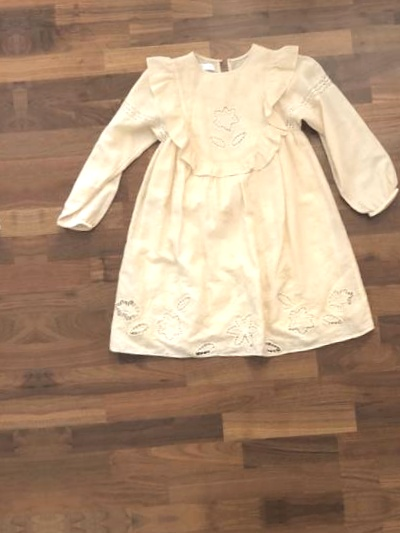Dress: (52, 18, 400, 402), (0, 46, 4, 430)
